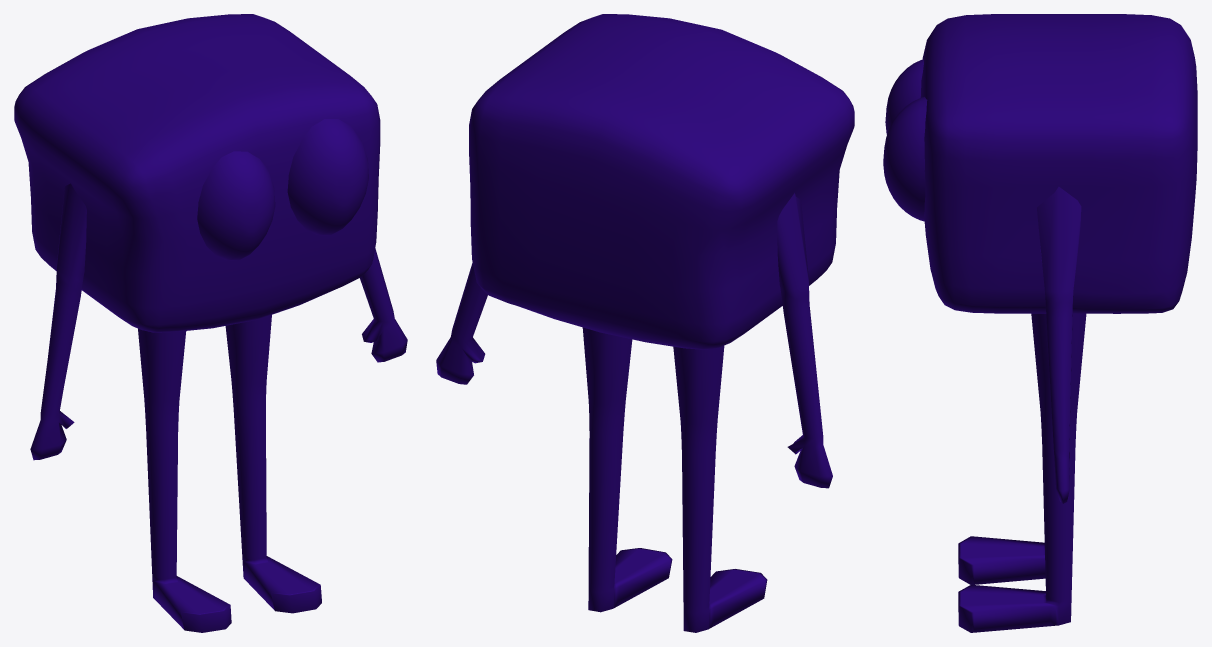
File: vertusher_02.fbx
3 renders of one model, left to right at view 1: azimuth 30°, elevation 25°; view 2: azimuth 150°, elevation 25°; view 3: azimuth 270°, elevation 25°, orthographic. The views are drawn at different scales.
Parts seen in each view (by area): view 1: LP_polySurface5; view 2: LP_polySurface5; view 3: LP_polySurface5.
Boxes of the visible parts, x1=… form: LP_polySurface5: x1=14, y1=14, x2=407, y2=632; LP_polySurface5: x1=436, y1=14, x2=854, y2=632; LP_polySurface5: x1=883, y1=14, x2=1197, y2=632.
Bounding box in the file's own units: 39.14 × 52.55 × 27.24.
